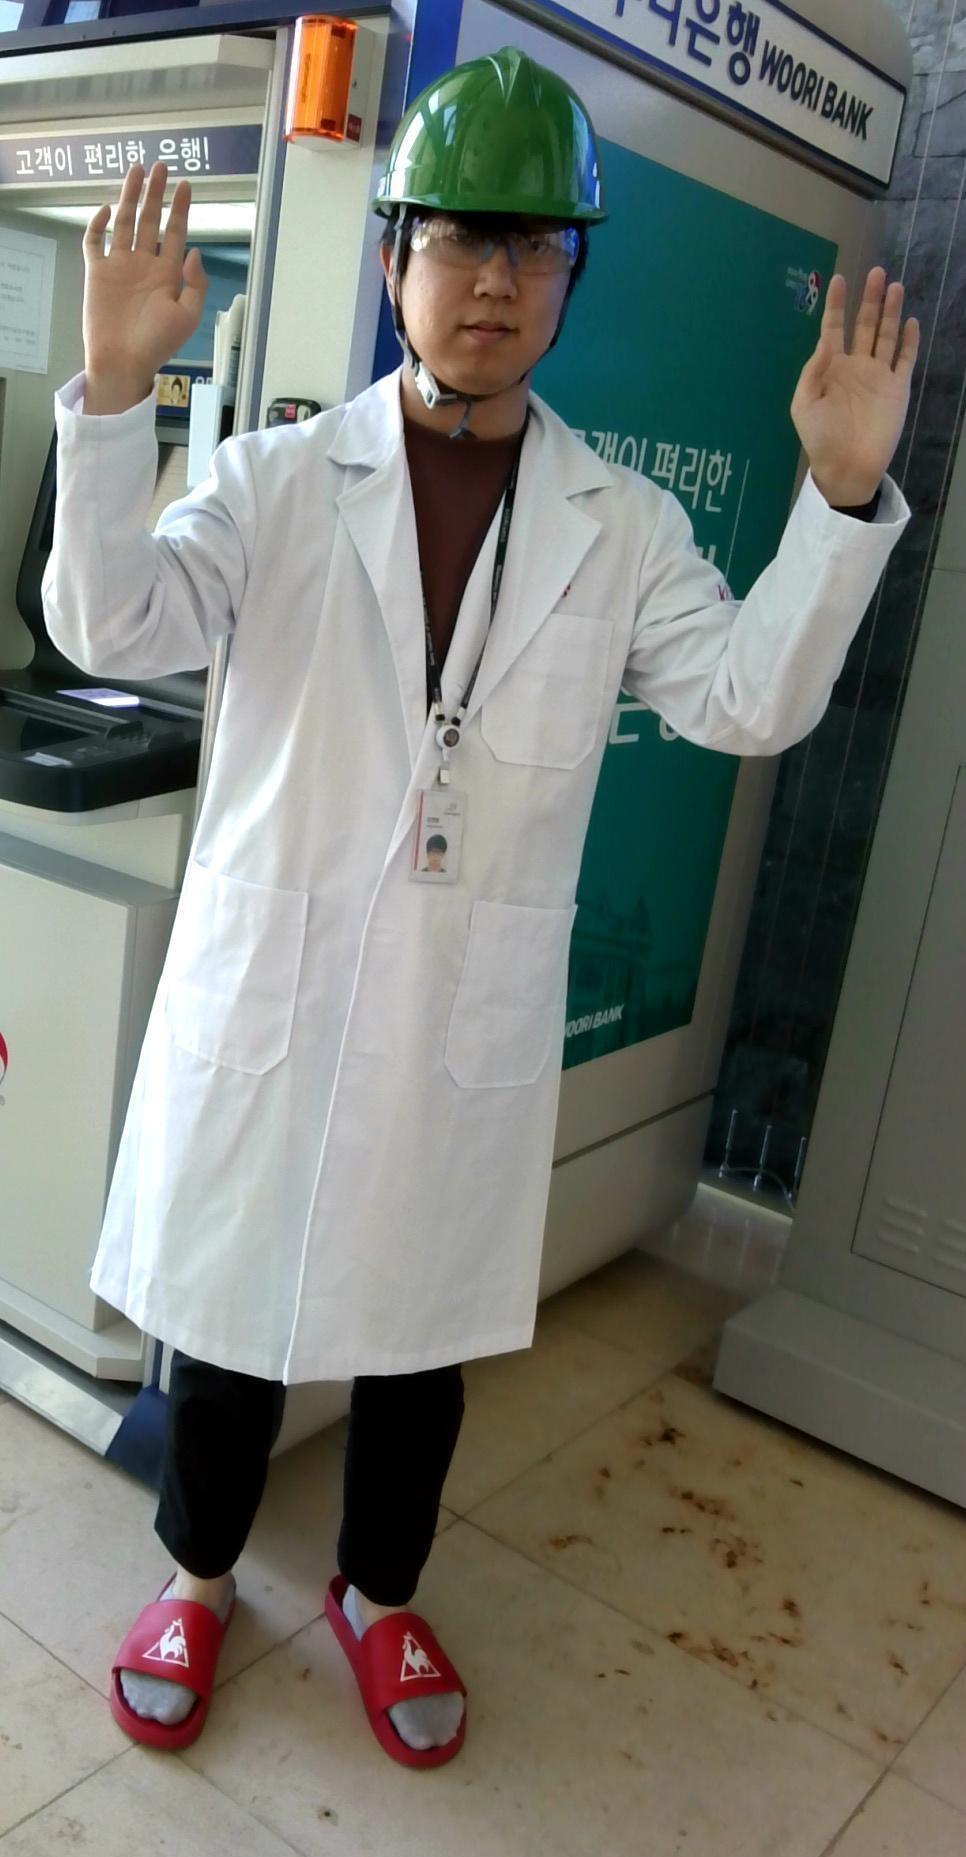lab_coat: (142, 497, 668, 1339)
